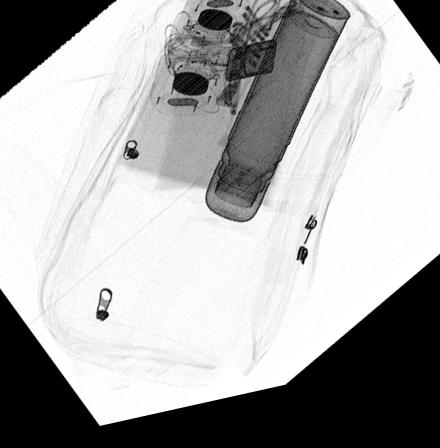Lighter: (226, 50, 278, 92)
